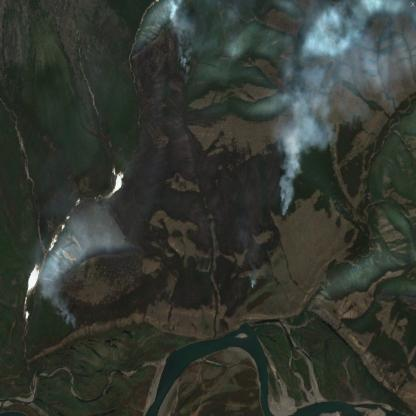fire: (278, 138, 302, 220), (168, 13, 193, 74), (57, 303, 80, 336)
